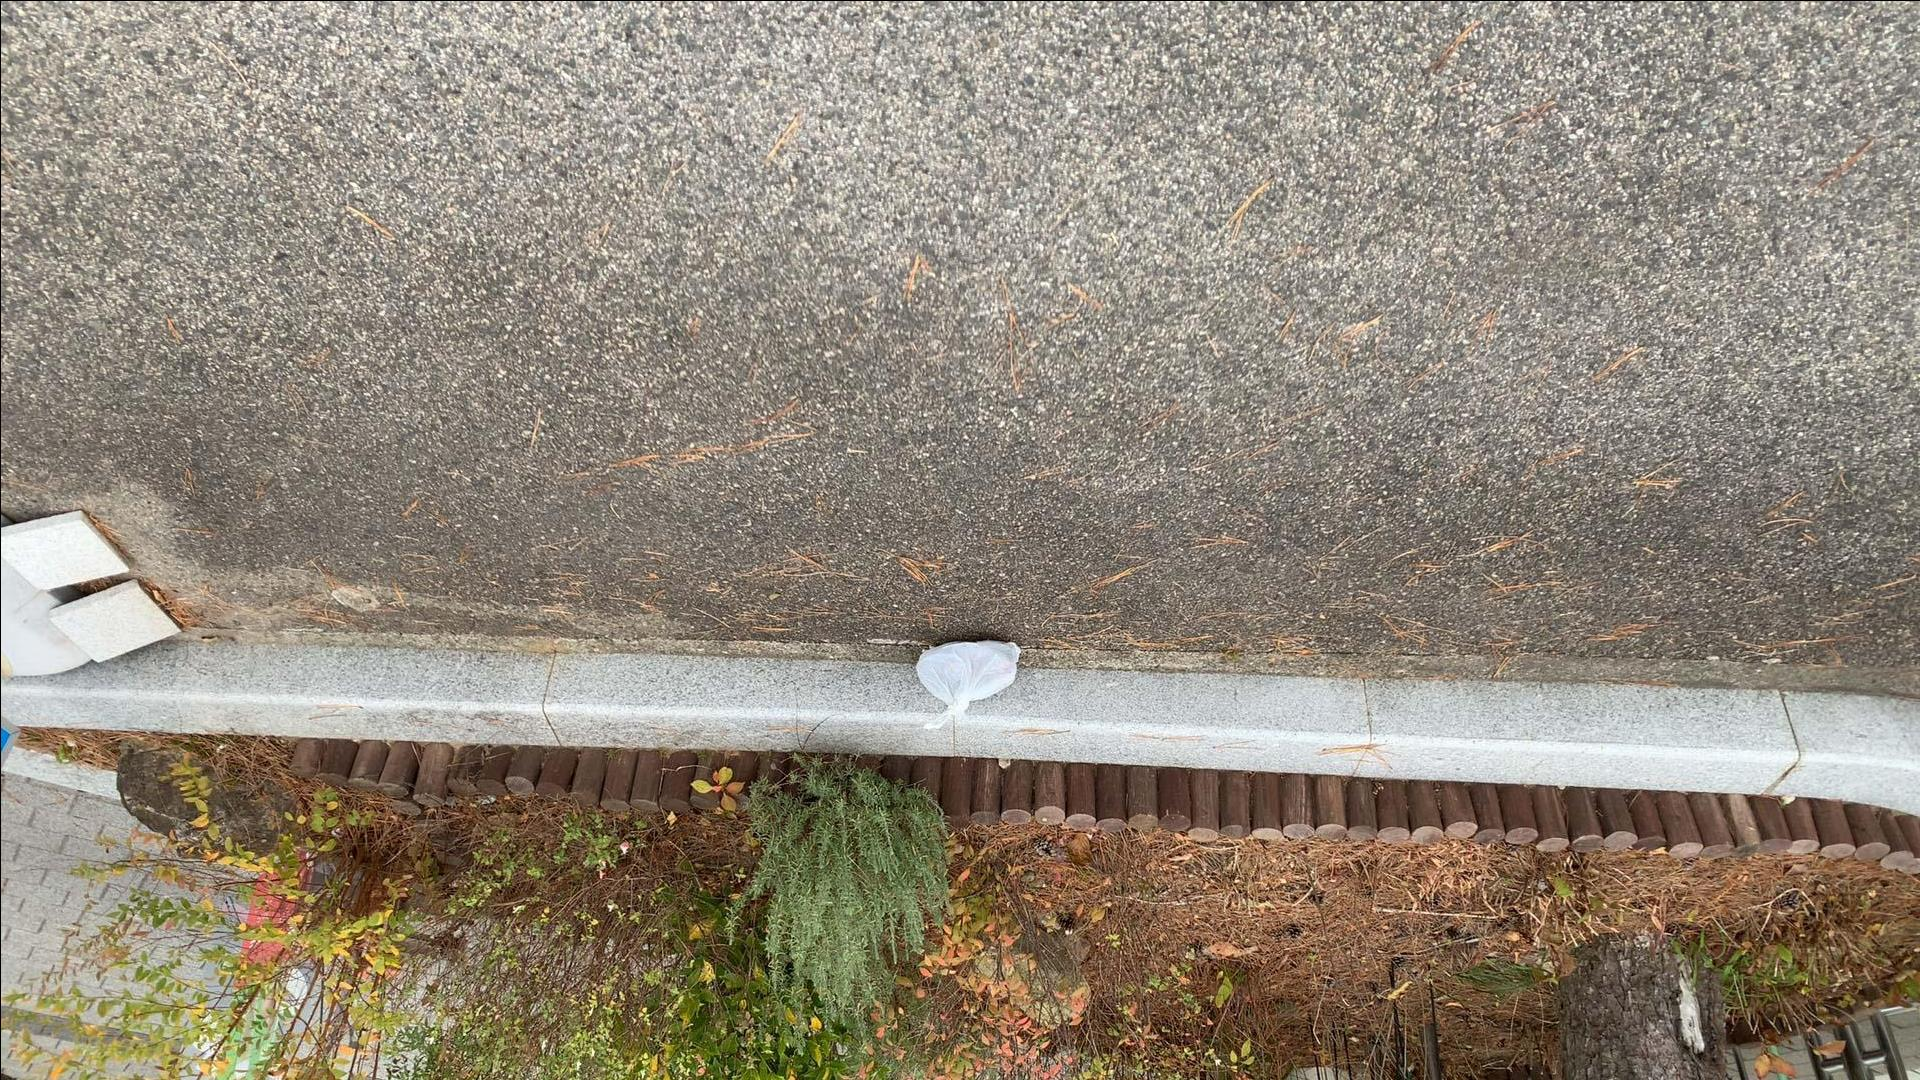white_bag: (909, 633, 1025, 735)
